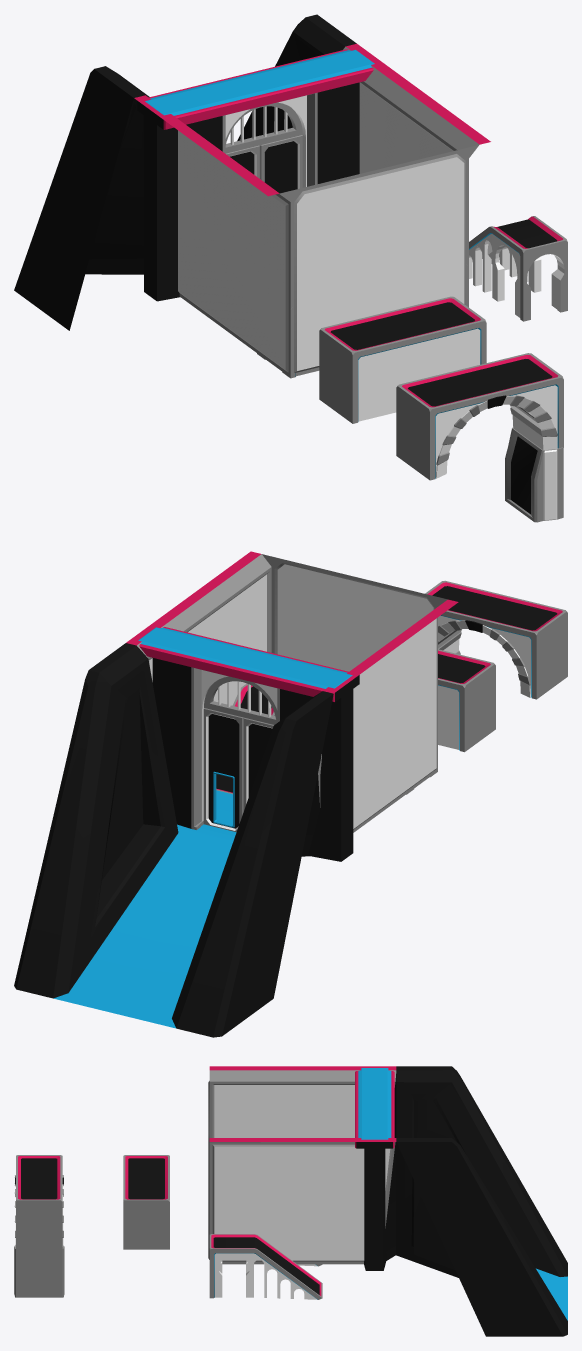
The model's file is UpdateMesh193.FBX.
3 renders of one model, top to bottom at view 1: azimuth 30°, elevation 25°; view 2: azimuth 150°, elevation 25°; view 3: azimuth 270°, elevation 25°, orthographic. The views are drawn at different scales.
Parts seen in each view (by area): view 1: Plane001, GatePassage00, PassageBlock002, PassageBlock004, PassageBlock003, ArchPillar, ArchInterior, Gate, ArcGrill; view 2: Plane001, GatePassage00, PassageBlock004, PassageBlock002, Gate, ArcGrill, ArchInterior, Gate001, PassageBlock00; view 3: Plane001, GatePassage00, PassageBlock002, PassageBlock004, PassageBlock003, ArchPillar.
Part boxes in pixels (bbox=[...]): Plane001: bbox=[14, 14, 490, 377]; GatePassage00: bbox=[137, 49, 374, 301]; PassageBlock002: bbox=[319, 296, 486, 423]; PassageBlock004: bbox=[396, 353, 563, 480]; PassageBlock003: bbox=[469, 216, 567, 321]; ArchPillar: bbox=[505, 427, 563, 522]; ArchInterior: bbox=[436, 395, 557, 478]; Gate: bbox=[260, 135, 302, 193]; ArcGrill: bbox=[225, 102, 302, 153]; Plane001: bbox=[14, 551, 458, 1037]; GatePassage00: bbox=[138, 627, 359, 861]; PassageBlock004: bbox=[425, 580, 567, 699]; PassageBlock002: bbox=[438, 649, 495, 752]; Gate: bbox=[203, 708, 243, 832]; ArcGrill: bbox=[204, 676, 277, 724]; ArchInterior: bbox=[438, 620, 530, 697]; Gate001: bbox=[243, 717, 273, 811]; PassageBlock00: bbox=[216, 683, 275, 794]; Plane001: bbox=[208, 1066, 567, 1336]; GatePassage00: bbox=[355, 1068, 394, 1270]; PassageBlock002: bbox=[123, 1155, 169, 1249]; PassageBlock004: bbox=[16, 1155, 62, 1248]; PassageBlock003: bbox=[209, 1234, 322, 1299]; ArchPillar: bbox=[14, 1245, 64, 1297].
Size of the model in its own units: 134 by 120 by 309.
